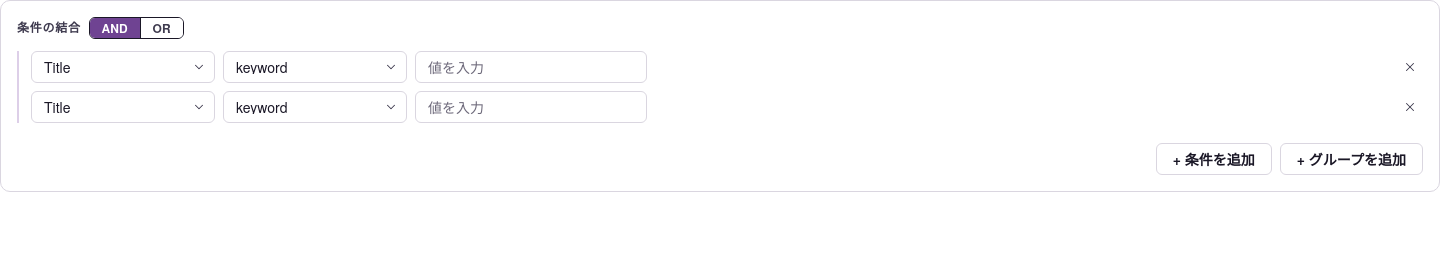
Test: AdvancedBuilder conditions › predicateDropdown_negatesLeadingCondition
Click the dropdown named "条件の演算子" at (315, 67), box [223,51,407,83]
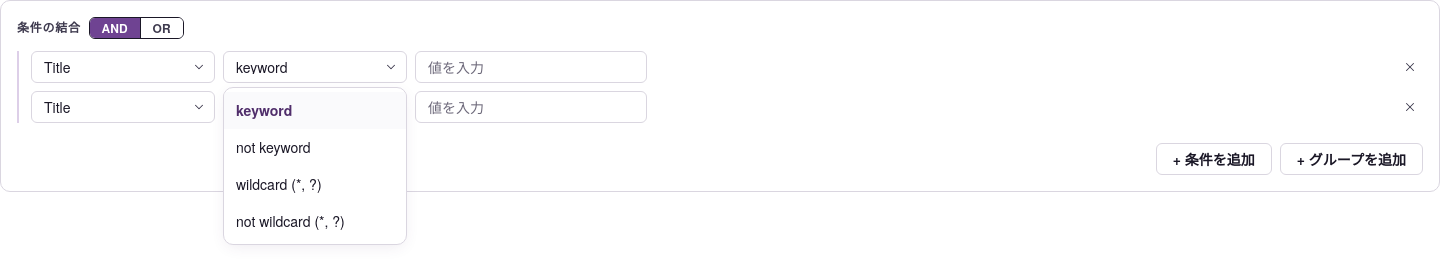
Click the option "not keyword" at (315, 148), box [224,129,406,166]
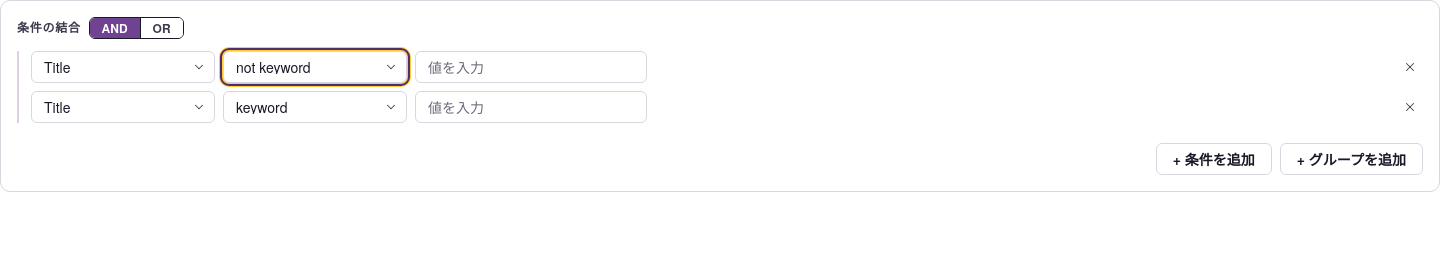
Expected: the dropdown named "条件の演算子" reads "not keyword", [223,51,407,83]
